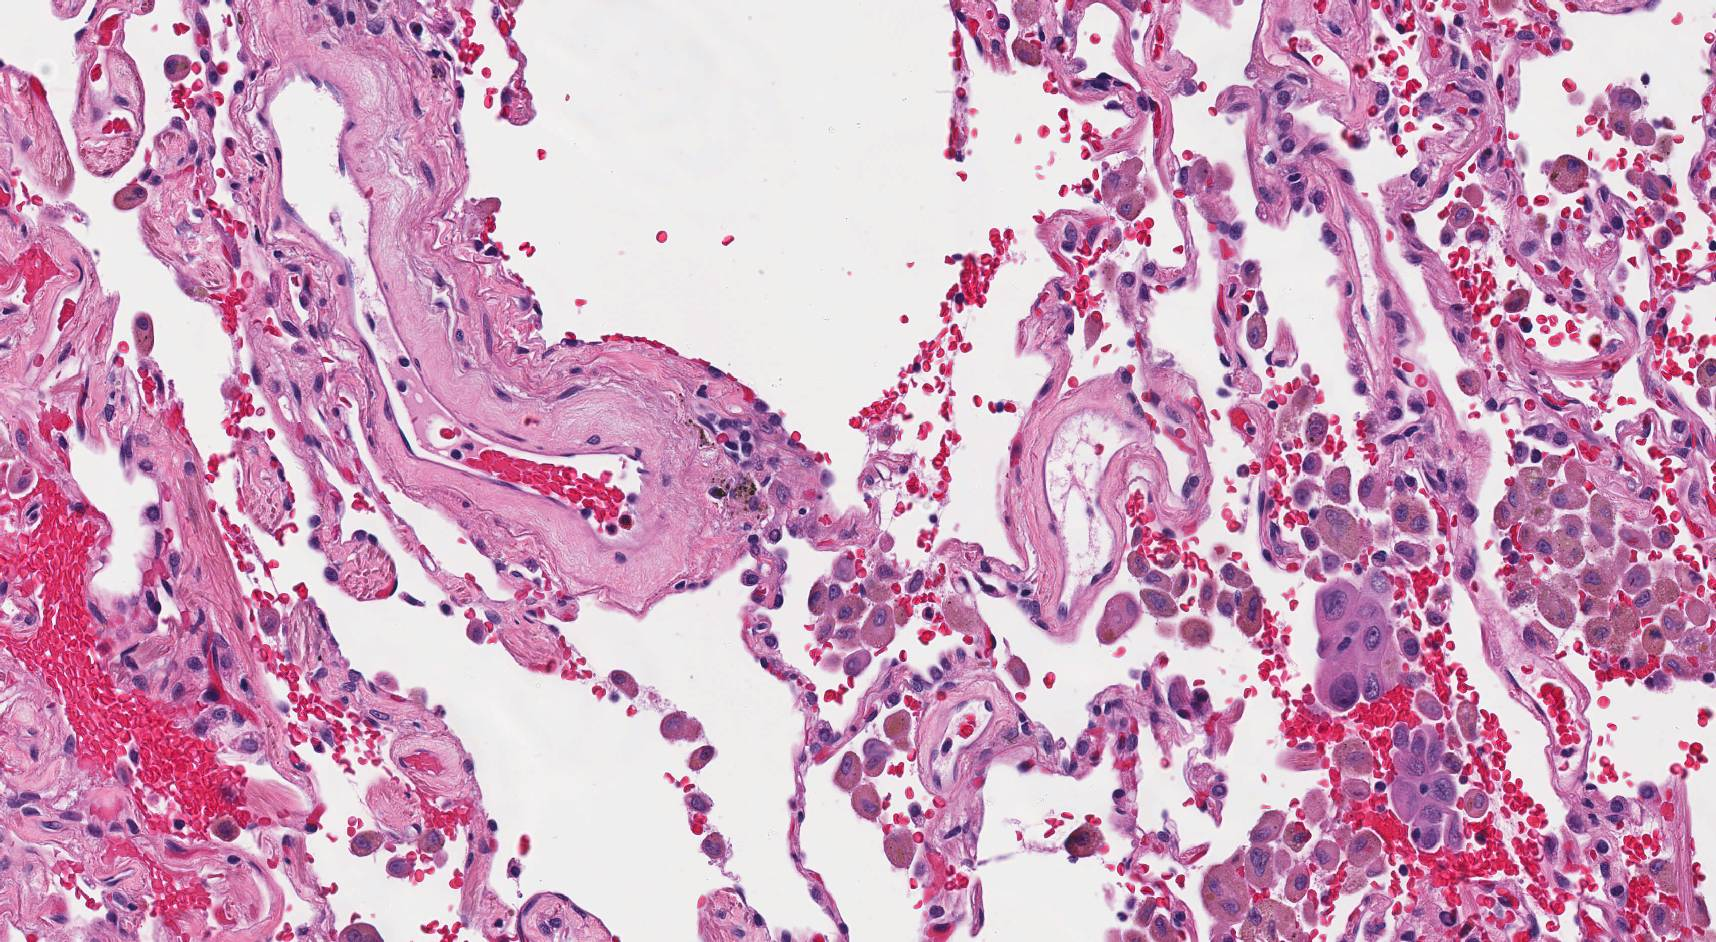stas: (1314, 579, 1403, 709), (1388, 721, 1467, 850)
